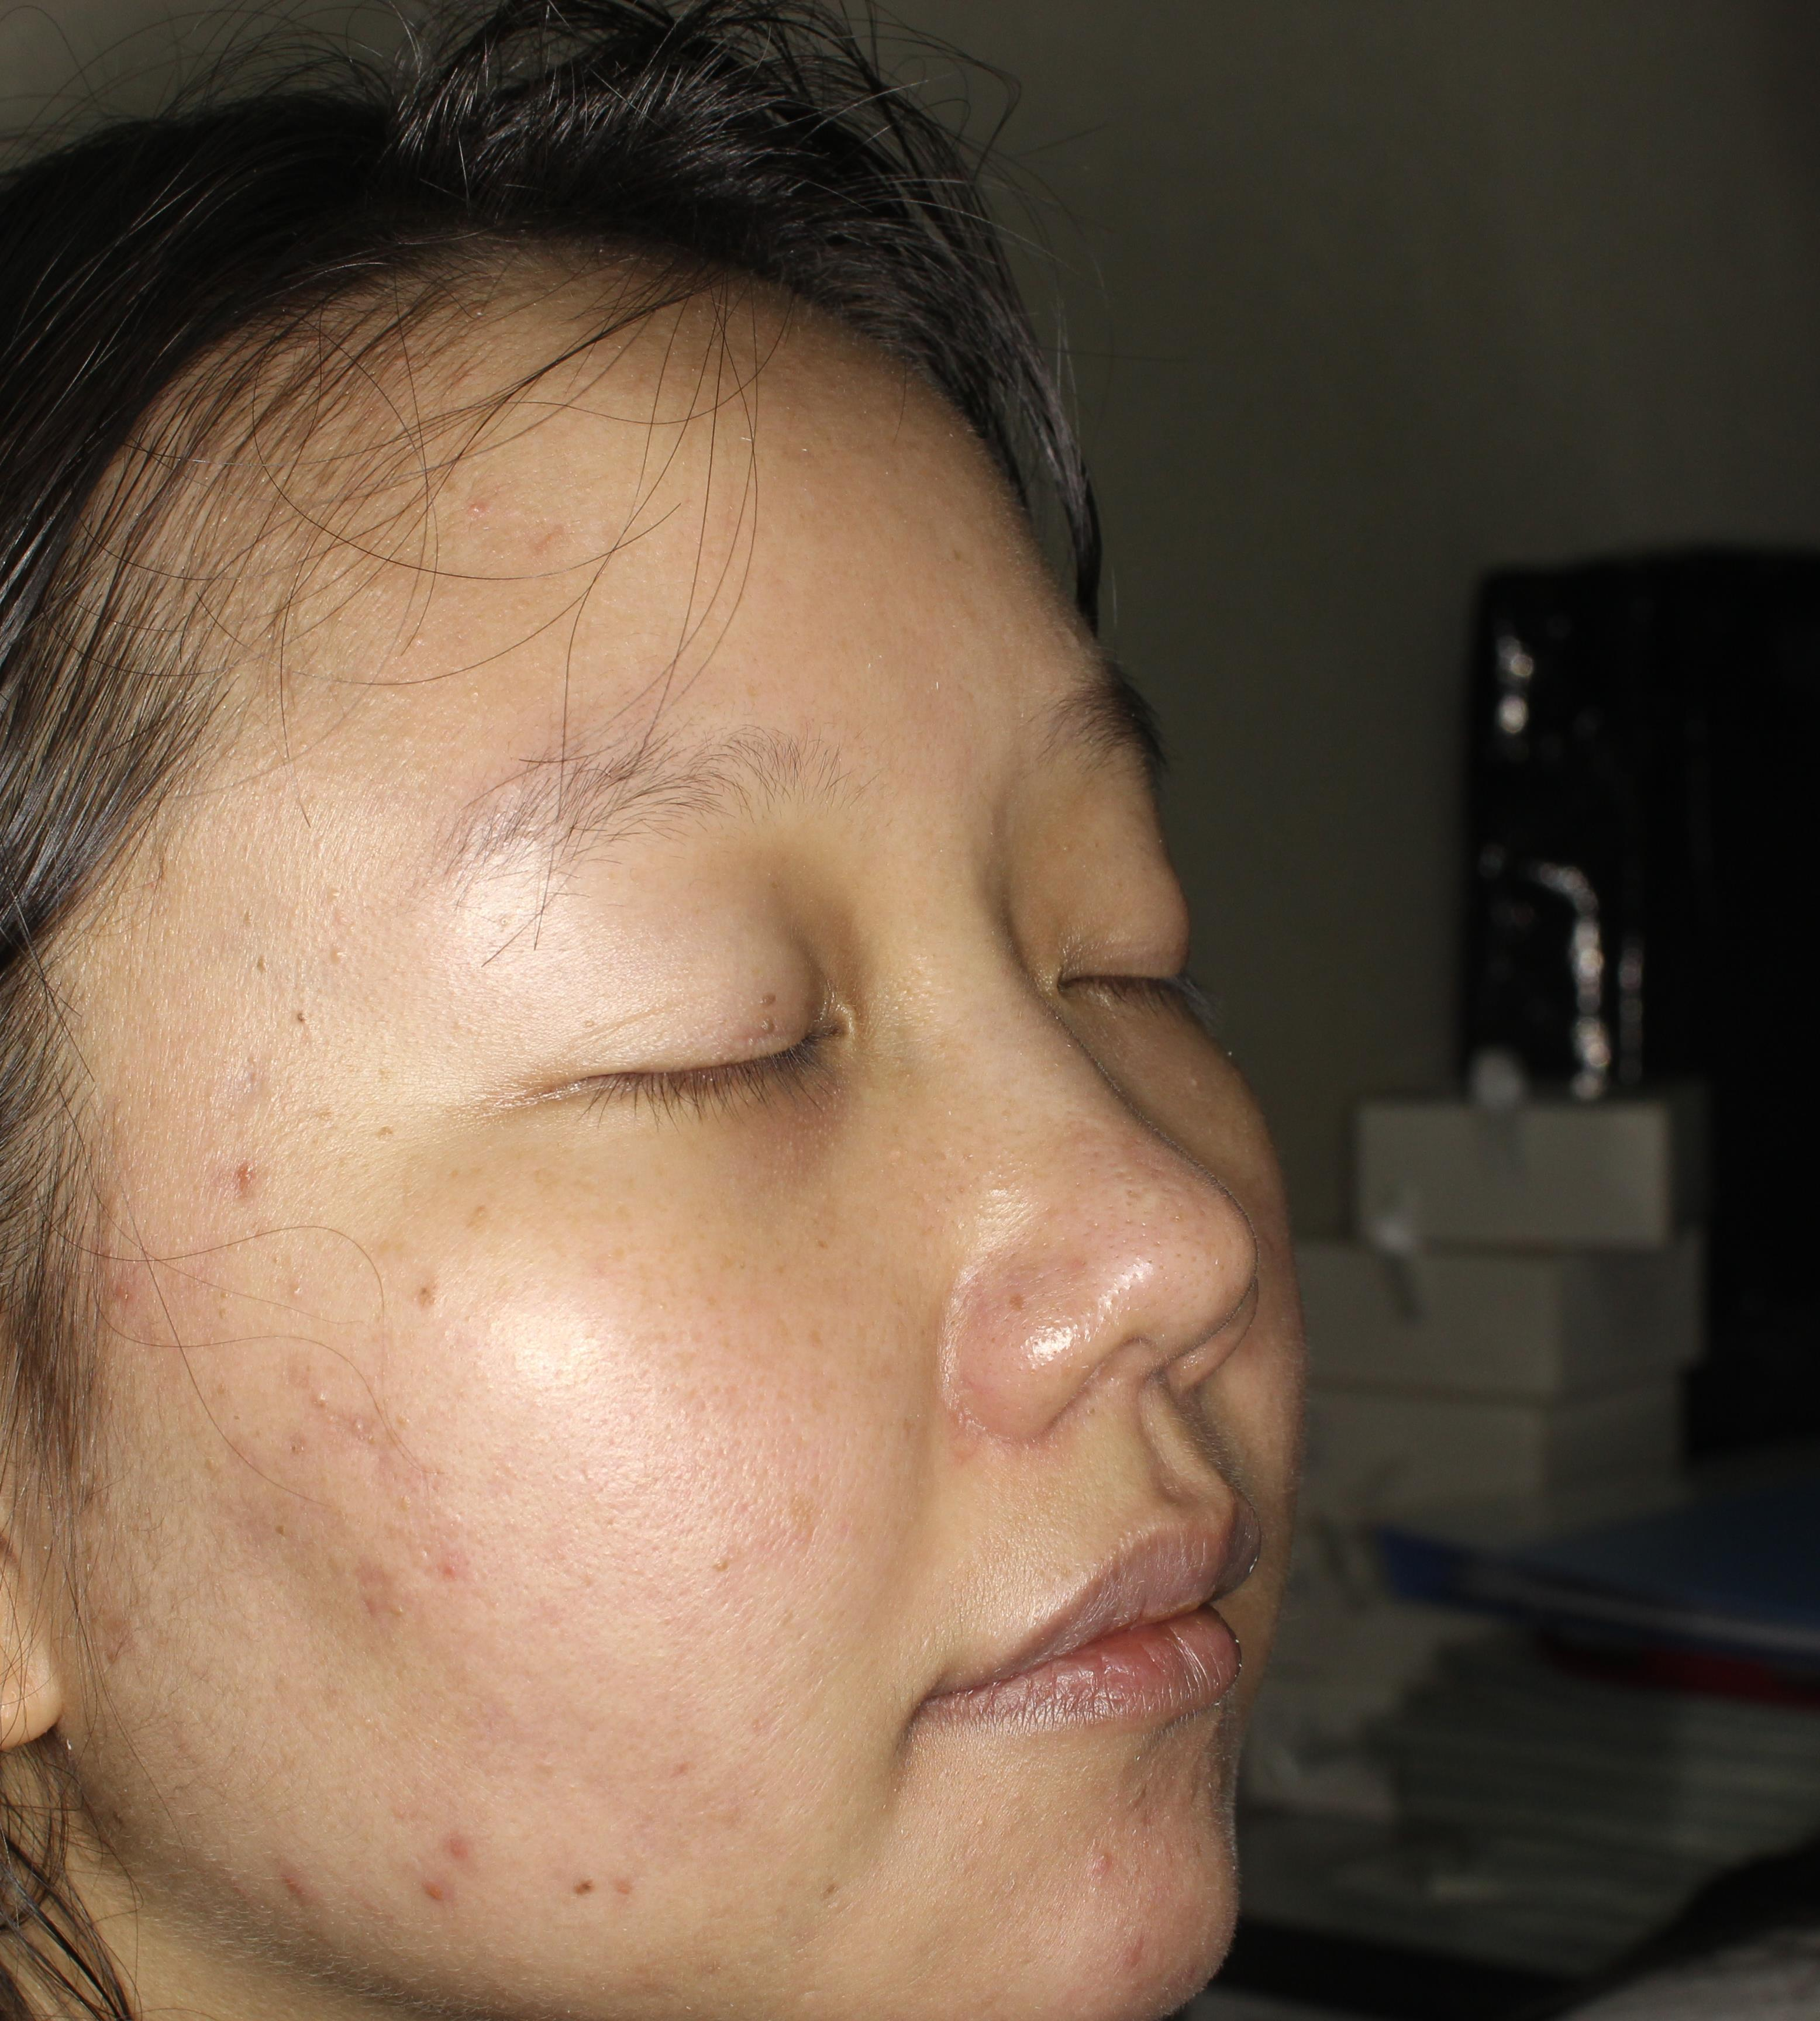fore: (193, 1127, 300, 1236), (213, 1840, 329, 1938), (401, 1786, 502, 1895), (288, 1361, 381, 1450), (381, 1845, 459, 1953), (351, 1540, 401, 1638)
